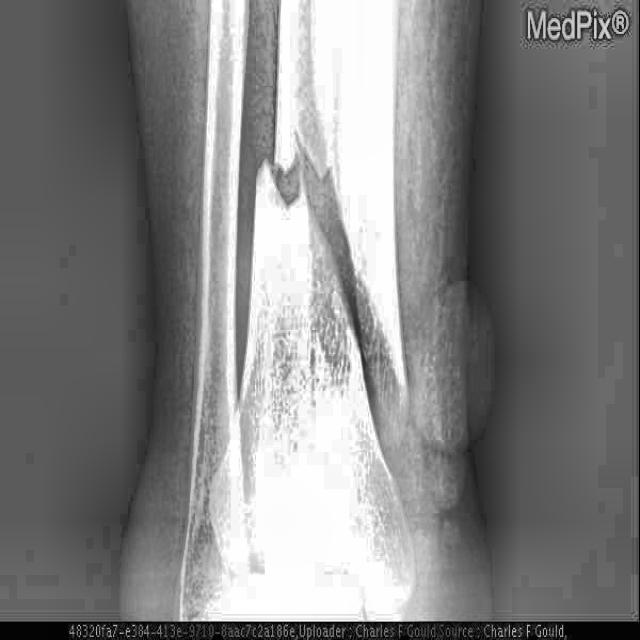messed_up_angle: (246, 132, 412, 448)
